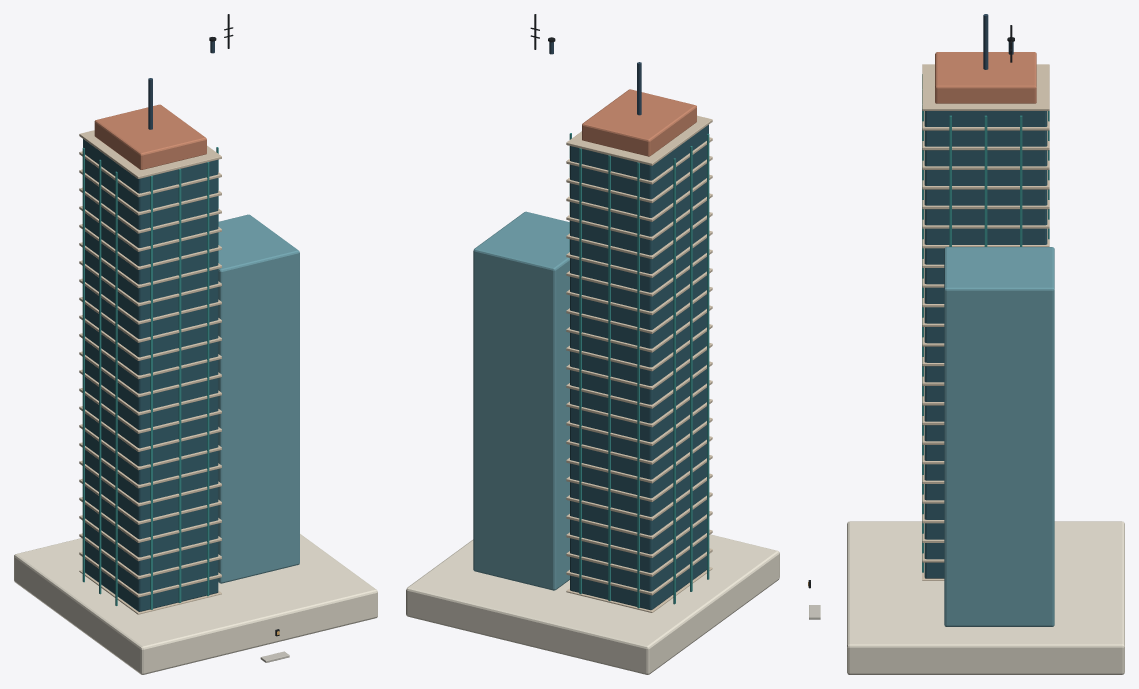
File: RES_TOWER_4x4_003.glb
3 renders of one model, left to right at view 1: azimuth 30°, elevation 25°; view 2: azimuth 150°, elevation 25°; view 3: azimuth 270°, elevation 25°, orthographic. The views are drawn at different scales.
Visible parts, largest first — view 1: RES_TOWER_4x4_003_Visual; view 2: RES_TOWER_4x4_003_Visual; view 3: RES_TOWER_4x4_003_Visual.
Boxes of the visible parts, x1,y1,x2,y2 form: RES_TOWER_4x4_003_Visual: [14, 14, 377, 674]; RES_TOWER_4x4_003_Visual: [406, 14, 779, 674]; RES_TOWER_4x4_003_Visual: [808, 14, 1124, 674].
Size of what is drawn, in the model's own units: 6.55 by 14.94 by 7.02.
